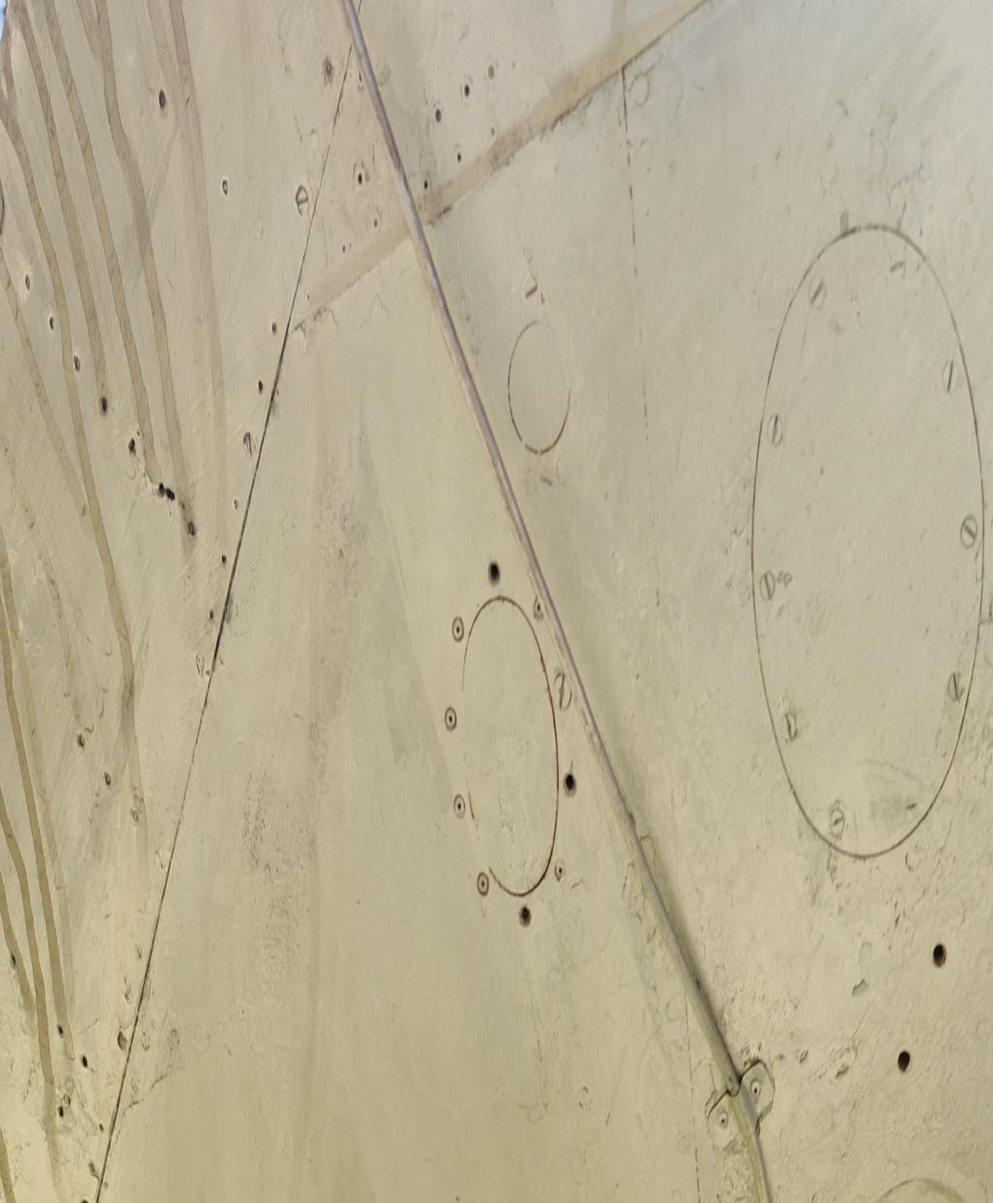corrosion: (158, 471, 199, 557)
